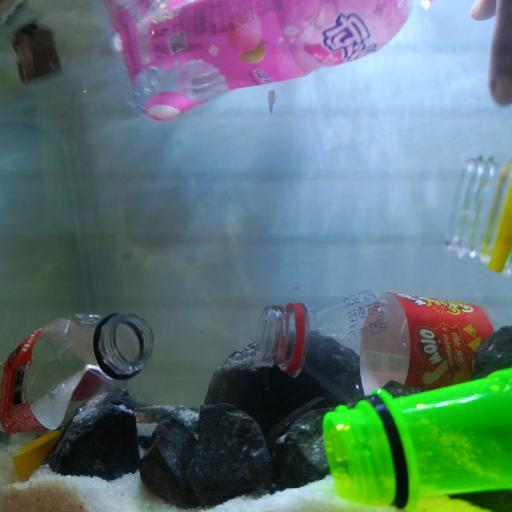bottle_cap: (13, 432, 62, 481)
plastic_bottle: (106, 1, 437, 124), (259, 288, 512, 397), (324, 369, 512, 512), (0, 312, 152, 449), (438, 155, 512, 279)
